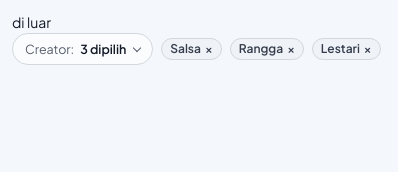
Scenario: MultiSelect, as the prototype's chip dropdown › staying open › drops one chip and leaves the other picks alone
Click the button with aria-label "Hapus filter Creator: Rangga": (267, 49) [230, 38, 304, 60]
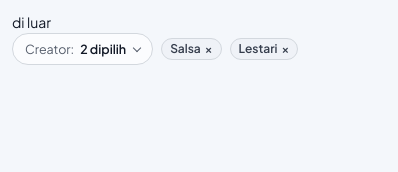
Expected: the button with aria-label "Hapus filter Creator: Salsa" is shown, [161, 38, 222, 60]
Now the button "Creator: 2 dipilih" is shown, box [12, 33, 153, 65]
